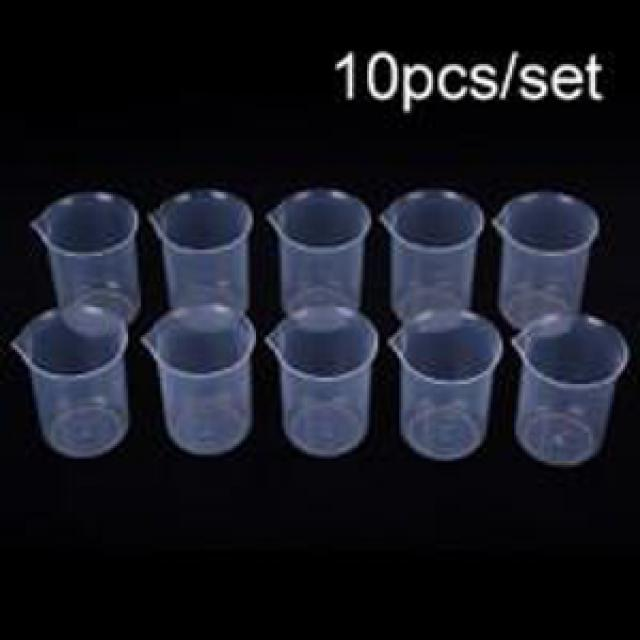plastic cup: (506, 309, 632, 472), (382, 305, 508, 465), (6, 303, 134, 459), (139, 298, 260, 456), (262, 303, 382, 459), (30, 188, 145, 339), (374, 181, 486, 335), (488, 190, 602, 339), (145, 190, 256, 331), (267, 188, 371, 335)
